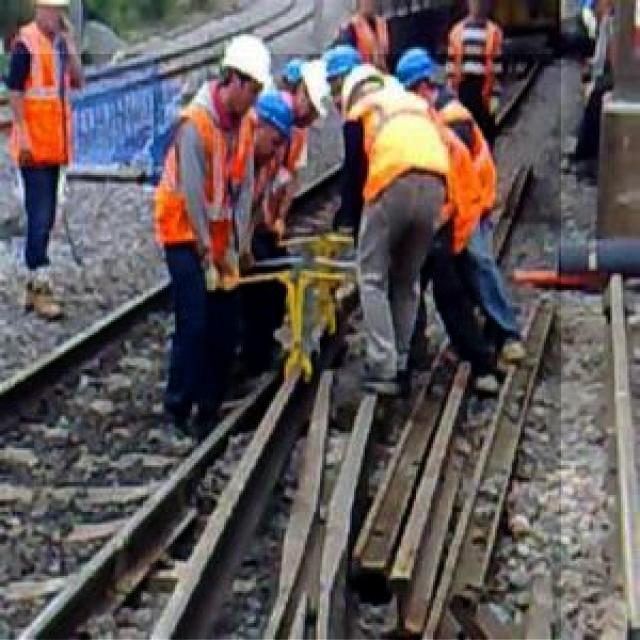rail: (1, 55, 562, 640)
